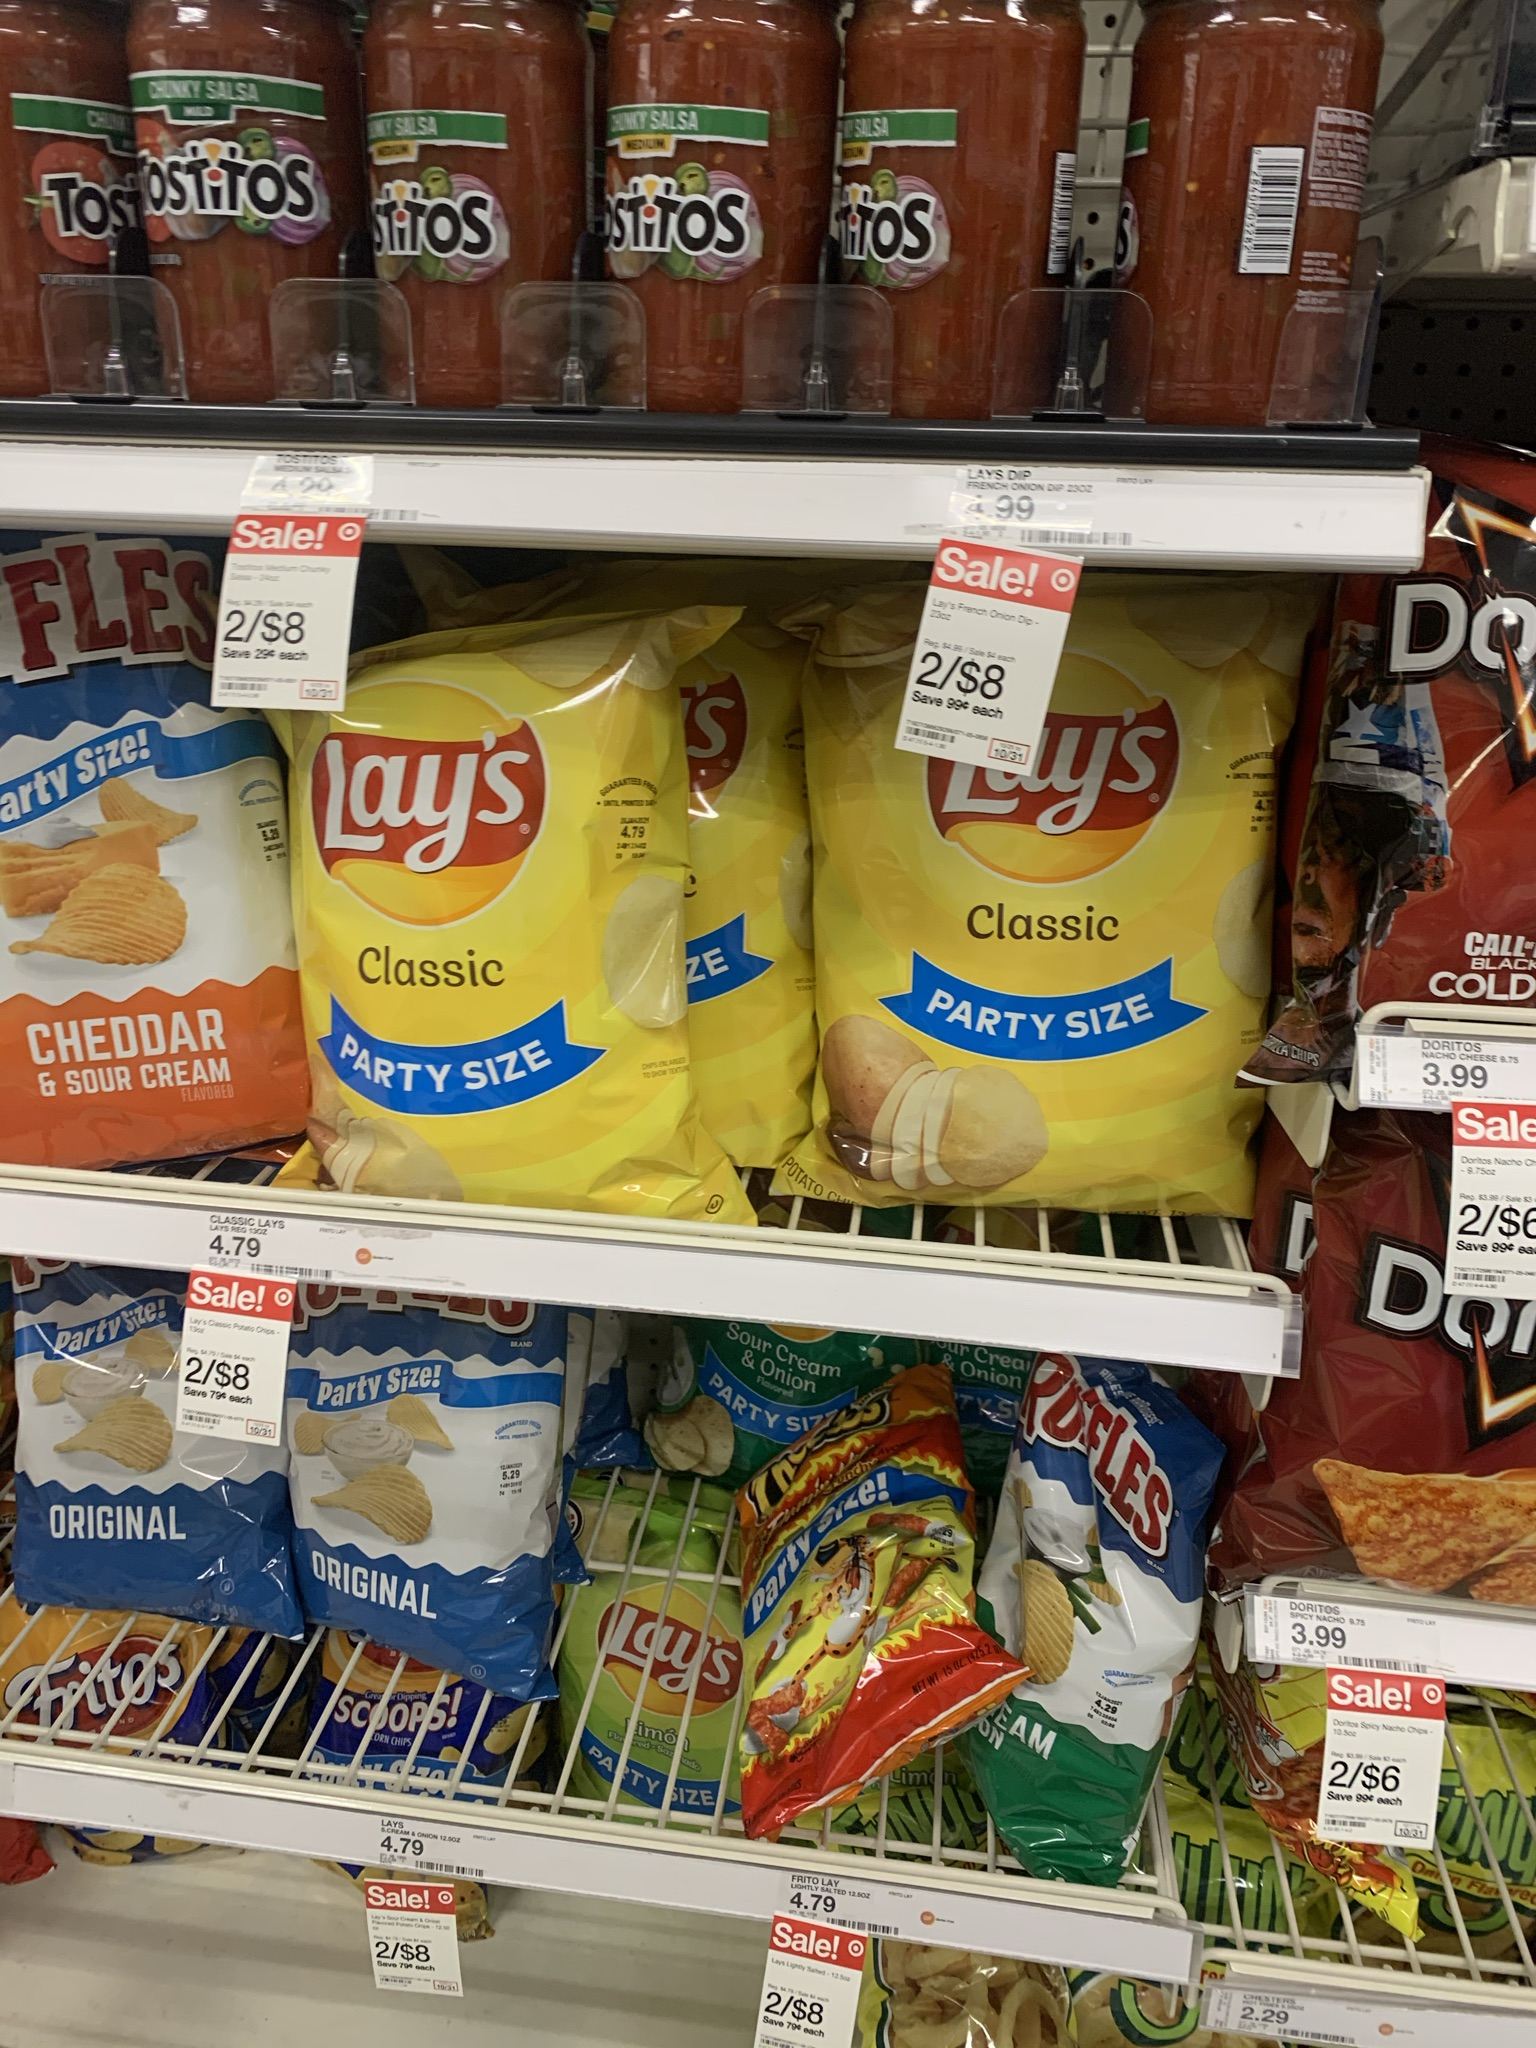Chips: (791, 601, 1267, 1232), (281, 627, 679, 1205)
